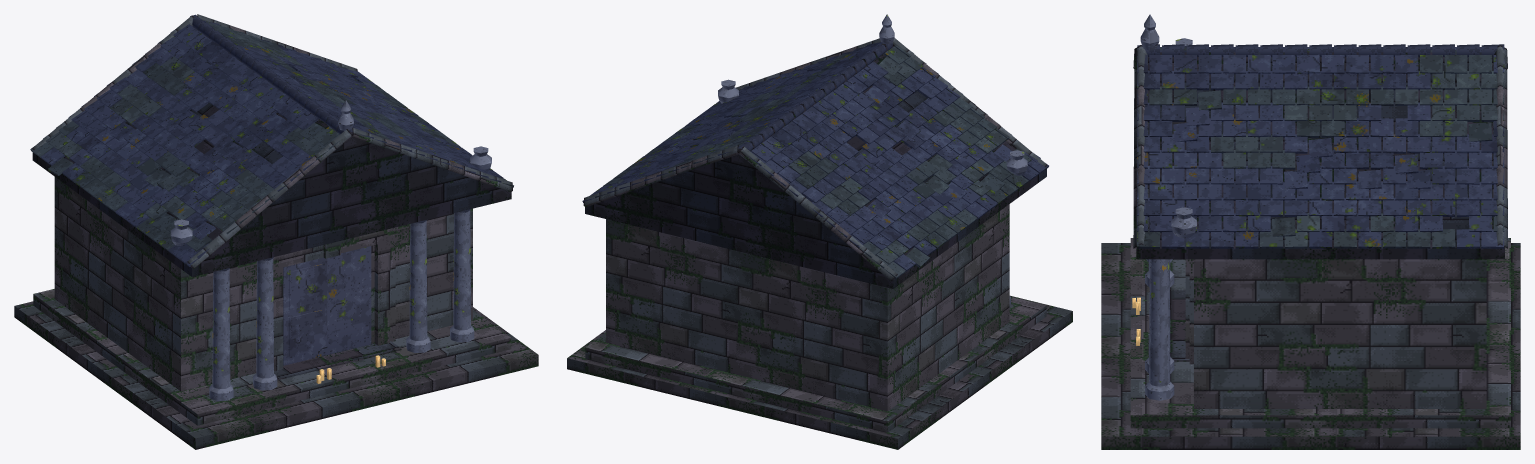
Rendered from crypt.glb.
3 renders of one model, left to right at view 1: azimuth 30°, elevation 25°; view 2: azimuth 150°, elevation 25°; view 3: azimuth 270°, elevation 25°, orthographic. The views are drawn at different scales.
Visible parts, largest first — view 1: crypt-mesh-1, crypt-mesh-0, door-left, door-right; view 2: crypt-mesh-1, crypt-mesh-0; view 3: crypt-mesh-1, crypt-mesh-0.
Part boxes in pixels (x1=…): crypt-mesh-1: x1=14, y1=14, x2=538, y2=449; crypt-mesh-0: x1=30, y1=14, x2=513, y2=401; door-left: x1=283, y1=257, x2=327, y2=365; door-right: x1=327, y1=246, x2=371, y2=354; crypt-mesh-1: x1=567, y1=38, x2=1072, y2=449; crypt-mesh-0: x1=582, y1=14, x2=1048, y2=307; crypt-mesh-1: x1=1101, y1=45, x2=1520, y2=449; crypt-mesh-0: x1=1137, y1=14, x2=1504, y2=400.
Size of the model in its own units: 9.4 by 7.67 by 8.6.
Materials: 3 (3 with a texture image).
